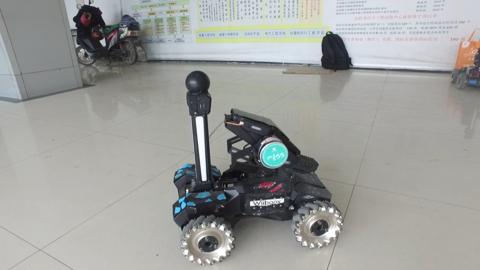bag: (315, 28, 356, 75), (453, 26, 480, 70)
chariot: (170, 69, 345, 268)
